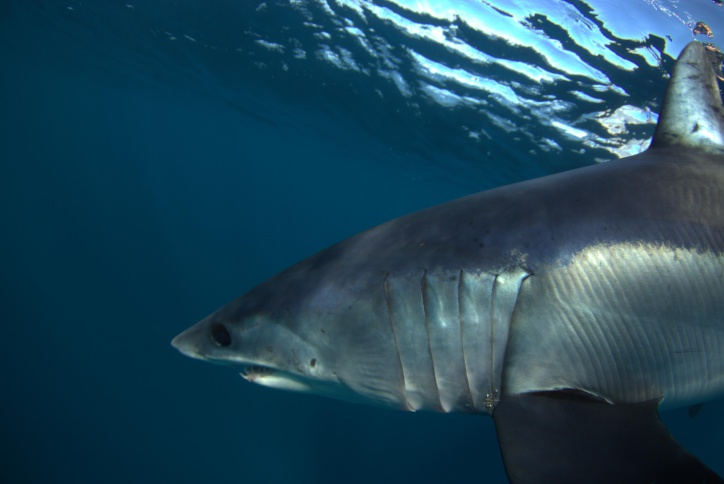Mako: (164, 45, 722, 484)
